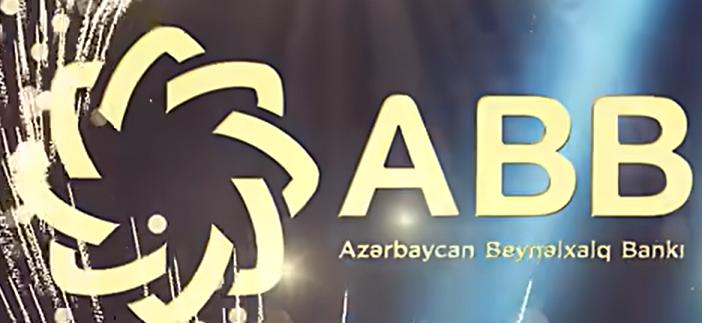ABB: (12, 21, 322, 323)
